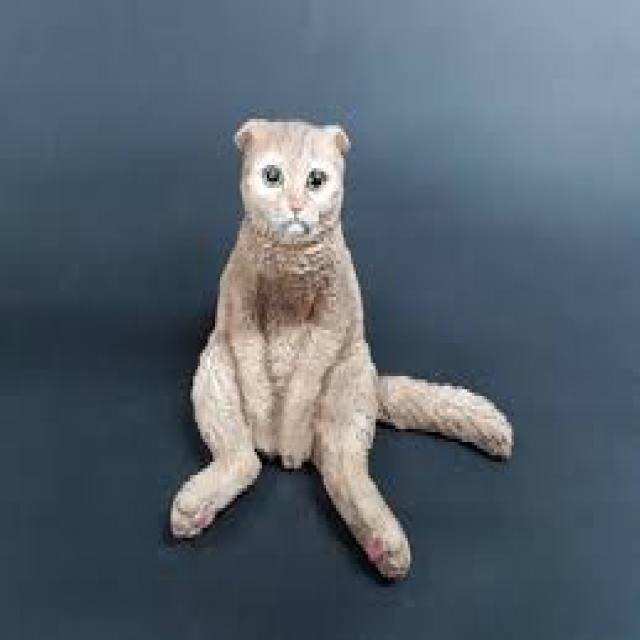cat-face: (209, 88, 383, 278)
